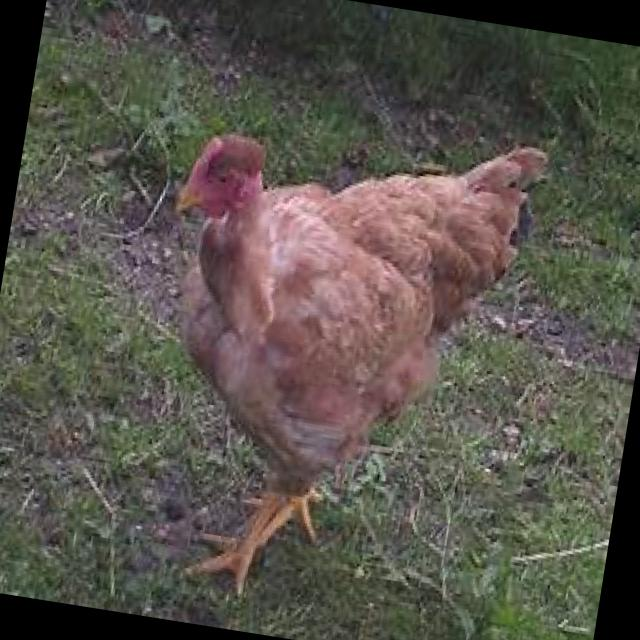animal: (112, 88, 552, 637)
